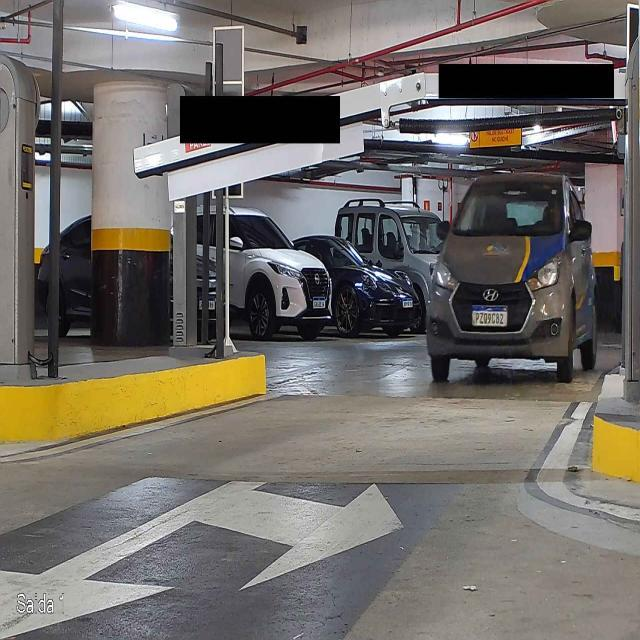mercosul_plate: (470, 303, 510, 328)
